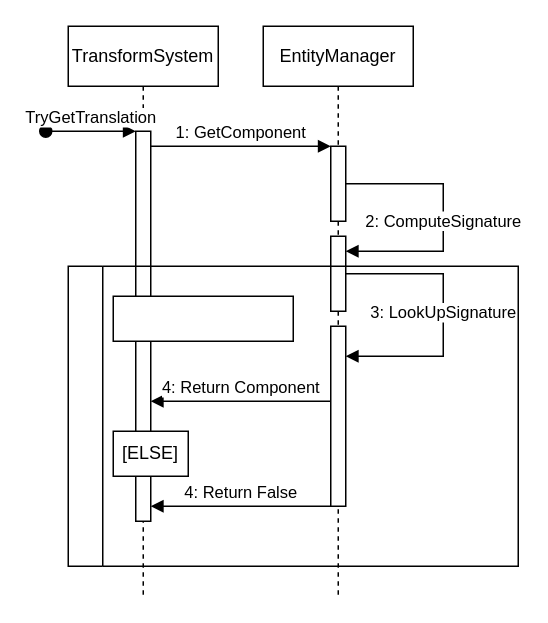
Image size: 548x623. Some labels were removed from this diagram. Each missing label, with the centre of its shape:
"[IF HasComponent]" goes at (x=202, y=318).
"Alt" goes at (x=292, y=415).
